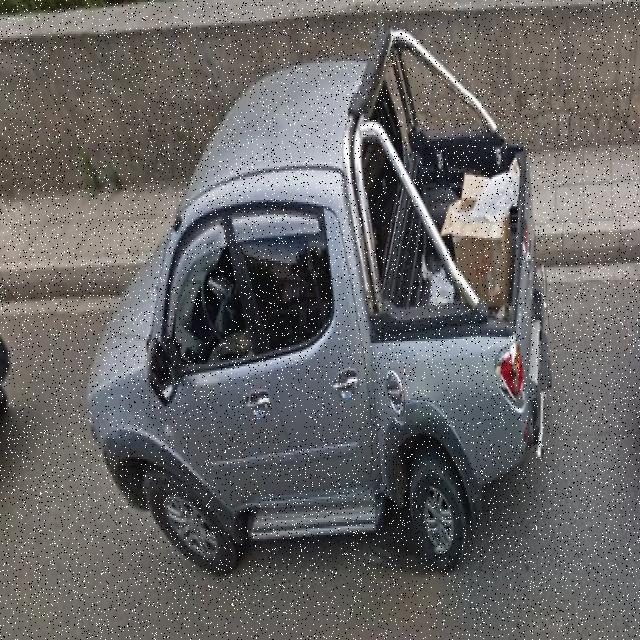cars: (92, 59, 546, 568)
